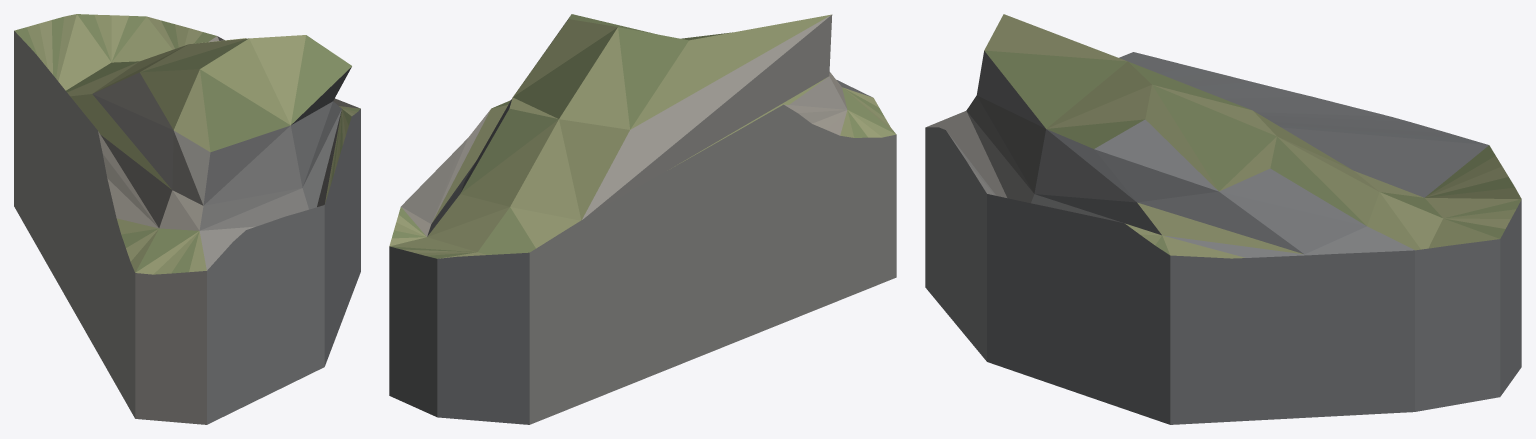
File: cliff_eastern_plateau.glb
3 renders of one model, left to right at view 1: azimuth 30°, elevation 25°; view 2: azimuth 150°, elevation 25°; view 3: azimuth 270°, elevation 25°, orthographic. The views are drawn at different scales.
Visible parts, largest first — view 1: cliff_eastern_plateau; view 2: cliff_eastern_plateau; view 3: cliff_eastern_plateau.
Boxes of the visible parts, x1,y1,x2,y2 form: cliff_eastern_plateau: [14, 14, 360, 424]; cliff_eastern_plateau: [389, 14, 896, 424]; cliff_eastern_plateau: [925, 14, 1521, 424].
Bounding box in the file's own units: 91.86 × 74 × 143.
